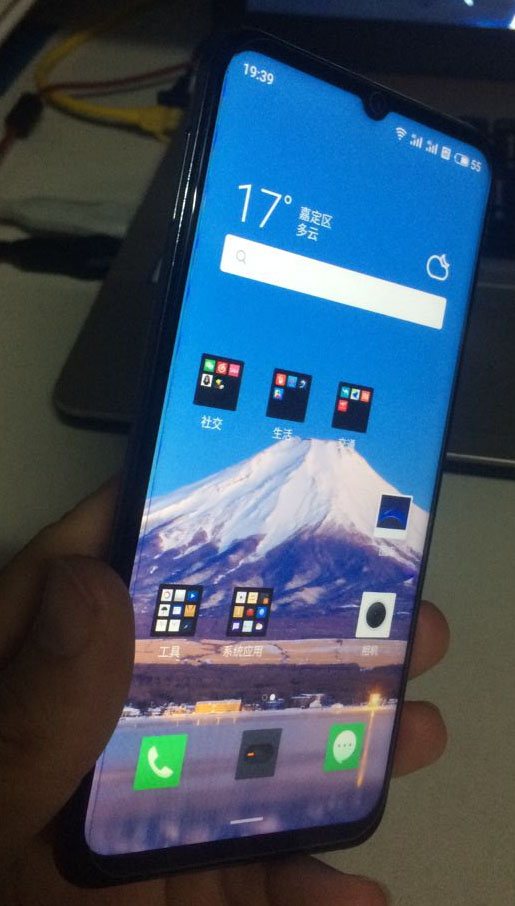phone: (52, 24, 498, 889)
